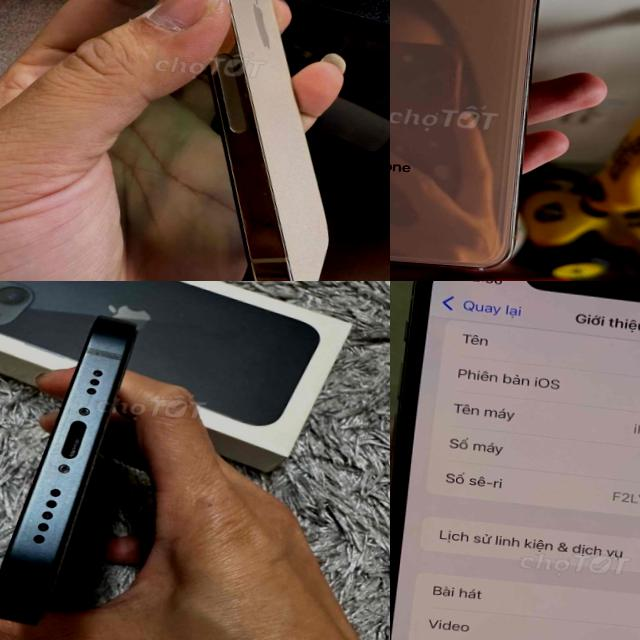gen_12_13: (104, 0, 379, 281), (0, 293, 151, 640)
gen_x_xs: (390, 281, 640, 640), (390, 0, 559, 281)
